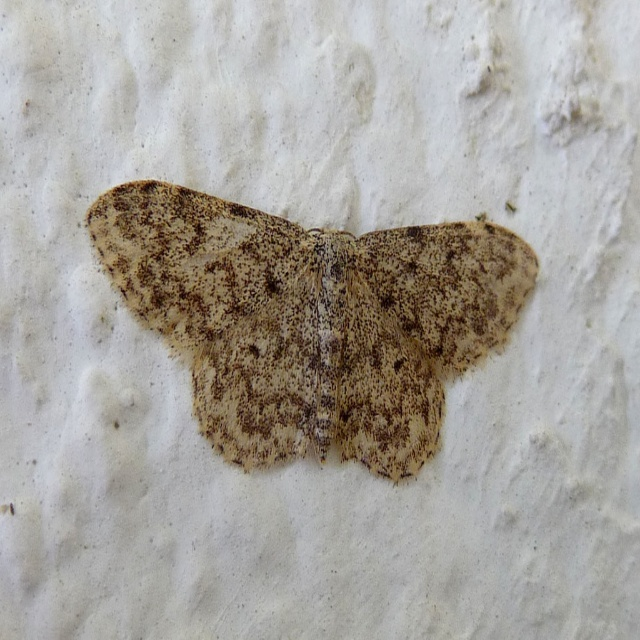Moths and butterflies: (84, 178, 546, 482)
